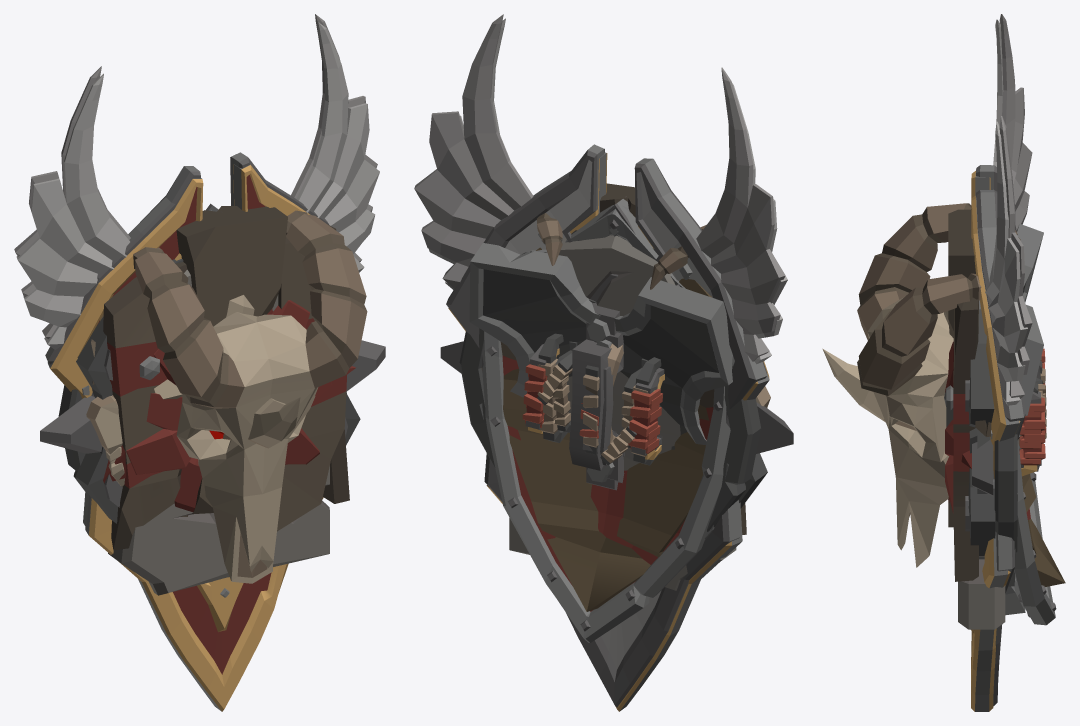
Rendered from shields.glb.
The picture shows the model from 3 angles, left to right: view 1: azimuth 30°, elevation 25°; view 2: azimuth 150°, elevation 25°; view 3: azimuth 270°, elevation 25°; orthographic projection. The views are drawn at different scales.
Visible parts, largest first — view 1: Shield_Skull_01, Shield_Ornate_01, Shield_Plank_01, Shield_Spike_01, Shield_Gravestone_01, Shield_Ornate_02, Shield_Bone_01, Shield_Round_01; view 2: Shield_Ornate_02, Shield_Heater_01, Shield_Chitin_01, Shield_Heater_02, Shield_Gravestone_01, Shield_Round_01, Shield_Spike_01, Shield_Ornate_01, Shield_Skull_01, Shield_Bone_01, Shield_Plank_01; view 3: Shield_Skull_01, Shield_Ornate_01, Shield_Ornate_02, Shield_Plank_01, Shield_Spike_01, Shield_Heater_02, Shield_Heater_01, Shield_Round_01, Shield_Gravestone_01, Shield_Chitin_01, Shield_Bone_01.
Part boxes in pixels (x1,y1,x2,y2): Shield_Skull_01: [75, 210, 367, 583]; Shield_Ornate_01: [16, 21, 379, 711]; Shield_Plank_01: [91, 206, 349, 550]; Shield_Spike_01: [40, 300, 385, 515]; Shield_Gravestone_01: [108, 269, 329, 595]; Shield_Ornate_02: [14, 14, 377, 529]; Shield_Bone_01: [86, 295, 254, 486]; Shield_Round_01: [58, 385, 89, 491]; Shield_Ornate_02: [414, 14, 785, 707]; Shield_Heater_01: [469, 243, 732, 540]; Shield_Chitin_01: [503, 247, 711, 611]; Shield_Heater_02: [482, 204, 730, 642]; Shield_Gravestone_01: [509, 235, 736, 590]; Shield_Round_01: [459, 251, 760, 531]; Shield_Spike_01: [440, 274, 793, 490]; Shield_Ornate_01: [417, 18, 787, 711]; Shield_Skull_01: [536, 213, 767, 508]; Shield_Bone_01: [537, 353, 770, 464]; Shield_Plank_01: [600, 183, 746, 534]; Shield_Skull_01: [857, 203, 1041, 567]; Shield_Ornate_01: [971, 19, 1040, 711]; Shield_Ornate_02: [976, 14, 1045, 706]; Shield_Plank_01: [944, 209, 991, 581]; Shield_Spike_01: [822, 341, 1040, 513]; Shield_Heater_02: [1014, 426, 1056, 625]; Shield_Heater_01: [1005, 224, 1043, 615]; Shield_Round_01: [991, 361, 1046, 552]; Shield_Gravestone_01: [958, 556, 1005, 629]; Shield_Chitin_01: [1018, 435, 1065, 586]; Shield_Bone_01: [944, 311, 1046, 493].
Size of the model in its own units: 0.00928 by 0.0162 by 0.00552.
Materials: 1 (1 with a texture image).
